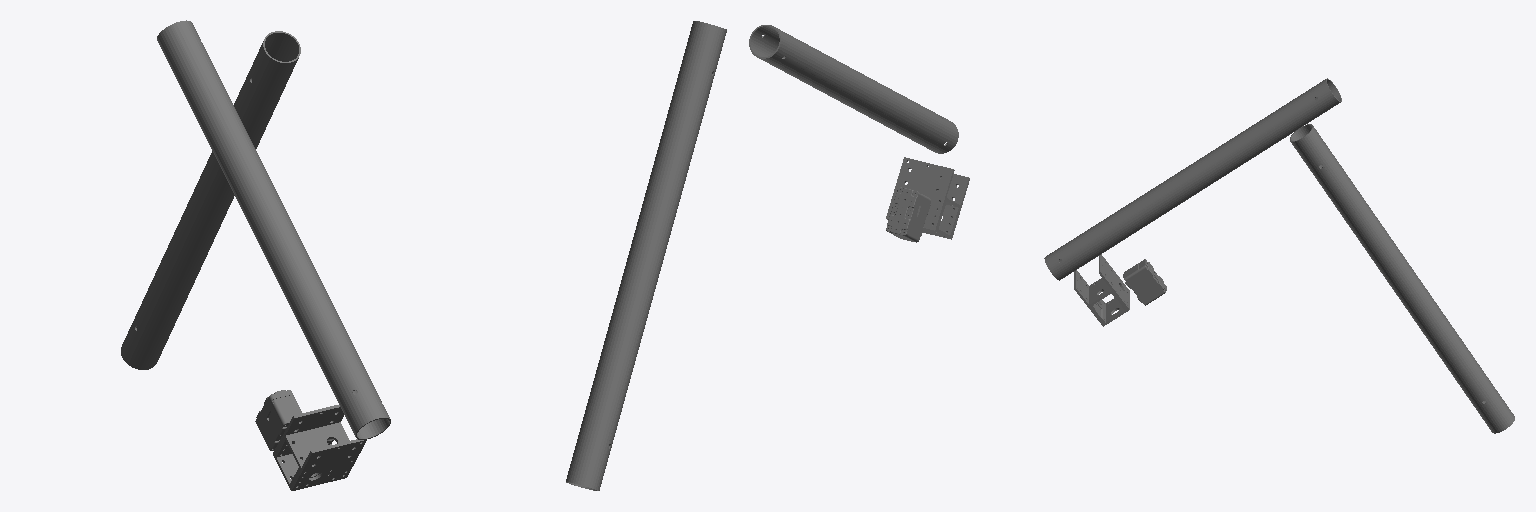
URDF robot description (ceres_rover):
<?xml version="1.0"?>

<robot name="ceres_rover">

    <material name="blue" >
        <color rgba="0 0 0.5 1"/>
    </material>

    <material name="red">
        <color rgba="1 0 0 1"/>
    </material>

    <material name="grey">
        <color rgba="0.5 0.5 0.5 1"/>
    </material>

    <link name="base_structure_link">
        <visual>
            <geometry>
                <mesh filename="package://new_arm_ik/meshes/arm_parts/cycloidal_drive/base_struct.stl" scale="0.001 0.001 0.001"/> 
            </geometry>
            <origin xyz="0 0 0" rpy="1.57 0 0" />
            <material name="blue"/>
        </visual>
    </link>

    <link name="base_pivot_link">
        <visual>
            <geometry>
                <mesh filename="package://new_arm_ik/meshes/arm_parts/cycloidal_drive/base_pivot.stl" scale="0.001 0.001 0.001"/>
            </geometry>
            <origin xyz="0.04887 0.05876 -0.06" rpy="1.34 -0.32 -1.389"/>
            <material name="red"/>
        </visual>
    </link>

    <link name="shoulder_gearbox_link">
        <visual>
            <geometry>
                <mesh filename="package://new_arm_ik/meshes/arm_parts/cycloidal_drive/shoulder_gearbox.stl" scale="0.001 0.001 0.001"/>
            </geometry>
            <origin xyz="0.105 -0.071 0.0715" rpy="0 1.57 1.57"/>
            <material name="grey"/>
        </visual>
    </link>

    <link name="bicep_tube_link">
        <visual>
            <geometry>
                <mesh filename="package://new_arm_ik/meshes/arm_parts/cycloidal_drive/bicep_tube.stl" scale="0.001 0.001 0.001"/>
            </geometry>
            <origin xyz="0.1025 -0.192 -0.086" rpy="0 -0.15 1.57"/>
            <material name="grey"/>
        </visual>
    </link>

    <link name="bicep_gearbox_link">
        <visual>
            <geometry>
                <mesh filename="package://new_arm_ik/meshes/arm_parts/cycloidal_drive/bicep_gearbox.stl" scale="0.001 0.001 0.001"/>
            </geometry>
            <origin xyz="0.0190 -0.099 -0.092" rpy="0 -0.15 1.57"/>
            <material name="red"/>
        </visual>
    </link>

    <link name="forearm_tube_link">
        <visual>
            <geometry>
                <mesh filename="package://new_arm_ik/meshes/arm_parts/cycloidal_drive/forearm_tube.stl" scale="0.001 0.001 0.001"/>
            </geometry>
            <origin xyz="0.02678 -0.0094 -0.54" rpy="0 0 2.09"/>
            <material name="grey"/>
        </visual>
    </link>

    <link name="forearm_gearbox_link">
        <visual>
            <geometry>
                <mesh filename="package://new_arm_ik/meshes/arm_parts/cycloidal_drive/forearm_gearbox.stl" scale="0.001 0.001 0.001"/>
            </geometry>
            <origin xyz="0.09 -0.040 -0.056" rpy="-1.55 0 1.89"/>
            <material name="red"/>
        </visual>
    </link>

    <link name="wrist_gearbox_link">
        <visual>
            <geometry>
                <mesh filename="package://new_arm_ik/meshes/arm_parts/cycloidal_drive/wrist_gearbox.stl" scale="0.001 0.001 0.001"/>
            </geometry>
            <origin xyz="-0.05 0.055 0.040" rpy="0 1.38 -1.57"/>
            <material name="red"/>
        </visual>
    </link>

    <link name="gripper_gearbox_link">
        <visual>
            <geometry>
                <mesh filename="package://new_arm_ik/meshes/arm_parts/cycloidal_drive/gripper_gearbox.stl" scale="0.001 0.001 0.001"/>
            </geometry>
            <origin xyz="0.011 -0.205 0.020" rpy="0 1.57 1.57"/>
            <material name="grey"/>
        </visual>
    </link>

    <link name="gripper_claw_link">
        <visual>
            <geometry>
                <mesh filename="package://new_arm_ik/meshes/arm_parts/cycloidal_drive/gripper_claw.stl" scale="0.001 0.001 0.001"/>
            </geometry>
            <origin xyz="0.016 -0.246 0.0736" rpy="-1.57 1.57 0"/>
            <material name="blue"/>
        </visual>
    </link>


    <joint name="base_structure_joint" type="continuous">
        <parent link="base_structure_link"/>
        <child link="base_pivot_link"/>
        <origin xyz="0.156 -0.074 0.104" rpy="0 0 0"/>
        <axis xyz="0 0 1"/>
    </joint>

    <joint name="base_pivot_shoulder_gearbox_joint" type="continuous">
        <parent link="base_pivot_link"/>
        <child link="shoulder_gearbox_link"/>
        <origin xyz="0 0 0.082" rpy="0 0 0"/>
        <axis xyz="1 0 0"/>
    </joint>

    <joint name="shoulder_tube_joint" type="fixed">
        <parent link="shoulder_gearbox_link"/>
        <child link="bicep_tube_link"/>
        <origin xyz="0 0 0" rpy="0 0 0"/>
    </joint>

    <joint name="bicep_tube_gearbox_joint" type="continuous">
        <parent link="bicep_tube_link"/>
        <child link="bicep_gearbox_link"/>
        <origin xyz="0.0837 -0.224 0.3530" rpy="0 0 0"/>
        <axis xyz="1 0 0"/>
    </joint>
    
    <joint name="bicep_gearbox_forearm_tube_joint" type="continuous">
        <parent link="bicep_gearbox_link"/>
        <child link="forearm_tube_link"/>
        <origin xyz="-0.09562 -0.058 0.01" rpy="2.181 0 0"/>
        <axis xyz=" 0 0 1"/>
    </joint>

    <joint name="forearm_gearbox_joint" type="fixed">
        <parent link="forearm_tube_link"/>
        <child link="forearm_gearbox_link"/>
        <origin xyz="0 0 0" rpy="0 0 0"/>
    </joint>
    

    <joint name="forearm_tube_wrist_gearbox_joint" type="continuous">
        <parent link="forearm_tube_link"/>
        <child link="wrist_gearbox_link"/>
        <origin xyz="0 0 0.345" rpy="0 0 0"/>
        <axis xyz=" 1 0 0"/>
    </joint>

    <joint name="wrist_gearbox_gripper_gearbox_joint" type="fixed">
        <parent link="wrist_gearbox_link"/>
        <child link="gripper_gearbox_link"/>
        <origin xyz="0 0 0" rpy="0 0 0"/>
    </joint>

     <joint name="gripper_claw_joint" type="continuous">
        <parent link="gripper_gearbox_link"/>
        <child link="gripper_claw_link"/>
        <origin xyz="-0.007 -0.11 -0.002" rpy="0 0 0"/>
        <axis xyz="0 1 0"/>
    </joint>


</robot>

--- Facts derived from the render (not from the file) ---
3 views of the same robot in one strip: view 1: azimuth 30°, elevation 25°; view 2: azimuth 150°, elevation 25°; view 3: azimuth 270°, elevation 25° (orthographic).
Model ceres_rover with 10 links and 9 joints (6 continuous, 3 fixed), rooted at base_structure_link, posed every joint at zero.
Visible links, largest first — view 1: forearm_tube_link, bicep_tube_link, gripper_gearbox_link; view 2: bicep_tube_link, forearm_tube_link, gripper_gearbox_link; view 3: bicep_tube_link, forearm_tube_link, gripper_gearbox_link.
Boxes of the visible links, x1=… form: forearm_tube_link: x1=157, y1=20, x2=390, y2=439; bicep_tube_link: x1=121, y1=31, x2=300, y2=369; gripper_gearbox_link: x1=255, y1=390, x2=366, y2=490; bicep_tube_link: x1=566, y1=21, x2=726, y2=490; forearm_tube_link: x1=749, y1=25, x2=958, y2=153; gripper_gearbox_link: x1=886, y1=157, x2=969, y2=242; bicep_tube_link: x1=1290, y1=124, x2=1514, y2=433; forearm_tube_link: x1=1044, y1=78, x2=1341, y2=280; gripper_gearbox_link: x1=1074, y1=254, x2=1166, y2=326.
Size in the robot's own frame: 0.1653 by 0.6442 by 0.4864 metres.
3 mesh visuals loaded from 10 distinct referenced files (3 binary STL); not drawn: 7 (reference not matched to a file when rendering).